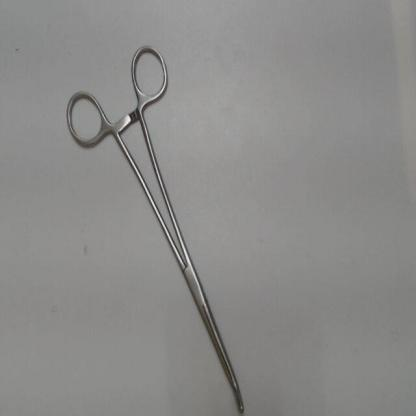Lahey Forceps: (59, 31, 251, 415)
